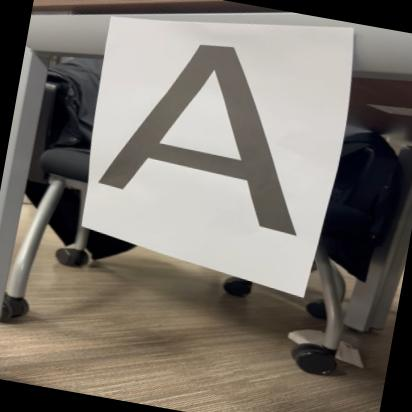seat: (96, 27, 326, 236)
